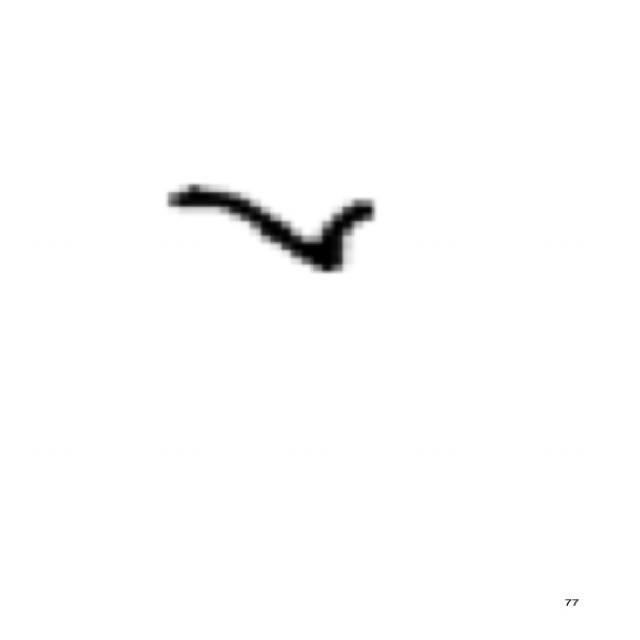7 -seven-: (161, 177, 384, 281)
